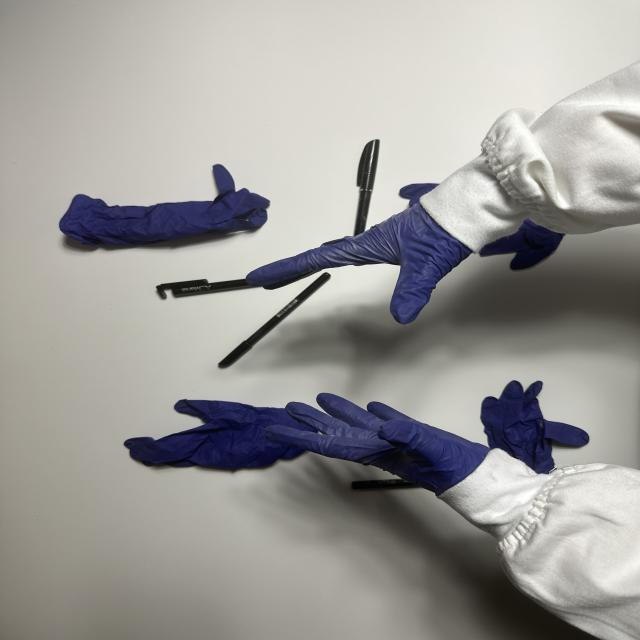gloves_contaminated: (247, 204, 472, 324), (265, 393, 489, 494)
